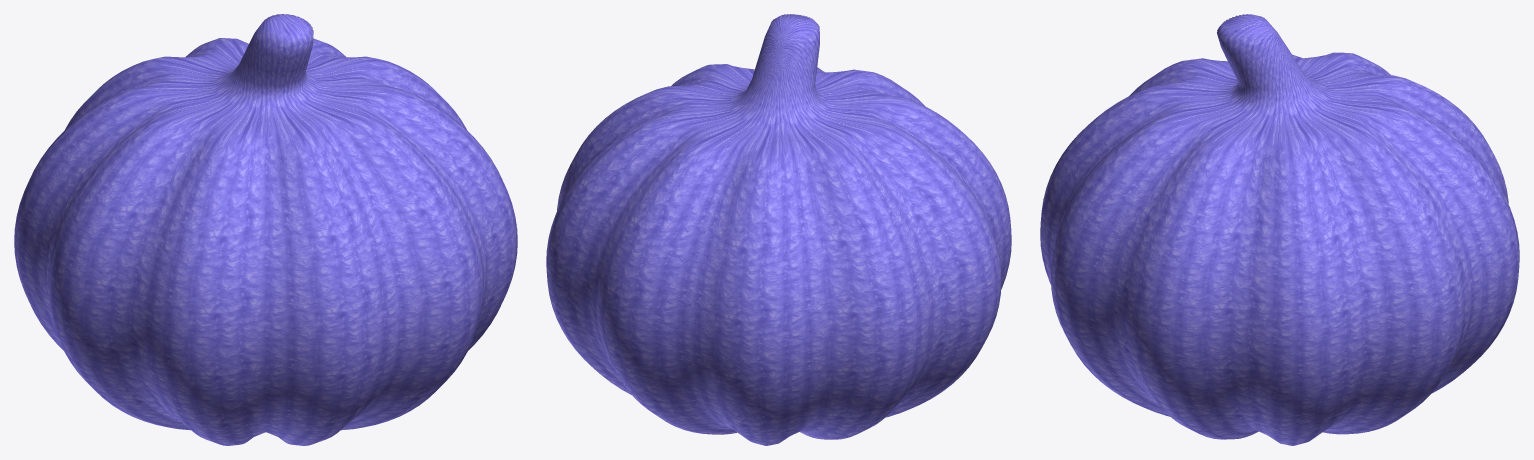
The model's file is pumpkin.fbx.
3 views of the same model, side by side, from view 1: azimuth 30°, elevation 25°; view 2: azimuth 150°, elevation 25°; view 3: azimuth 270°, elevation 25° (orthographic). The views are drawn at different scales.
Parts seen in each view (by area): view 1: pSphere1; view 2: pSphere1; view 3: pSphere1.
Boxes of the visible parts, <box> form: pSphere1: <box>14,14,517,445</box>; pSphere1: <box>546,14,1011,445</box>; pSphere1: <box>1040,14,1519,445</box>.
Size of the model in its own units: 5.6 by 5.09 by 5.53.
